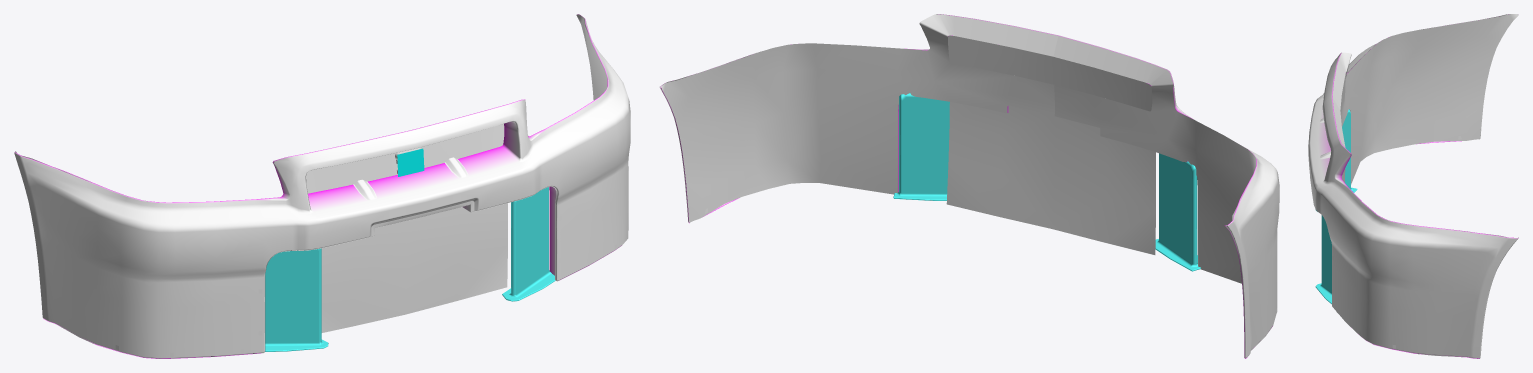
File: Car_Nissan_SkylineGTRVspecR34_1999_BumperF_SetF_AltA.fbx
The picture shows the model from 3 angles, left to right: view 1: azimuth 30°, elevation 25°; view 2: azimuth 150°, elevation 25°; view 3: azimuth 270°, elevation 25°; orthographic projection. The views are drawn at different scales.
Visible parts, largest first — view 1: BumperF 6; view 2: BumperF 6; view 3: BumperF 6.
Part boxes in pixels (<box>): BumperF 6: <box>14,14,630,358</box>; BumperF 6: <box>659,14,1279,358</box>; BumperF 6: <box>1308,14,1518,358</box>.
Size of the model in its own units: 1.78 by 0.5641 by 0.7027.
